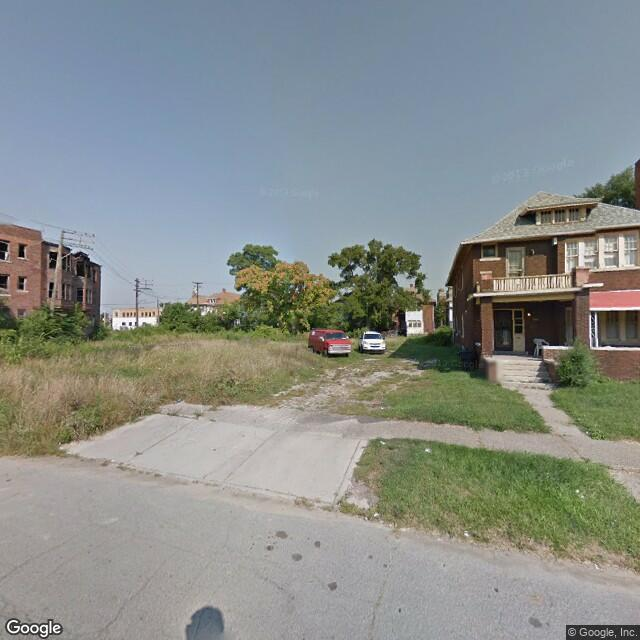litter: (371, 437, 394, 448), (459, 527, 473, 541), (370, 506, 384, 520), (567, 485, 586, 495), (421, 445, 436, 455)
